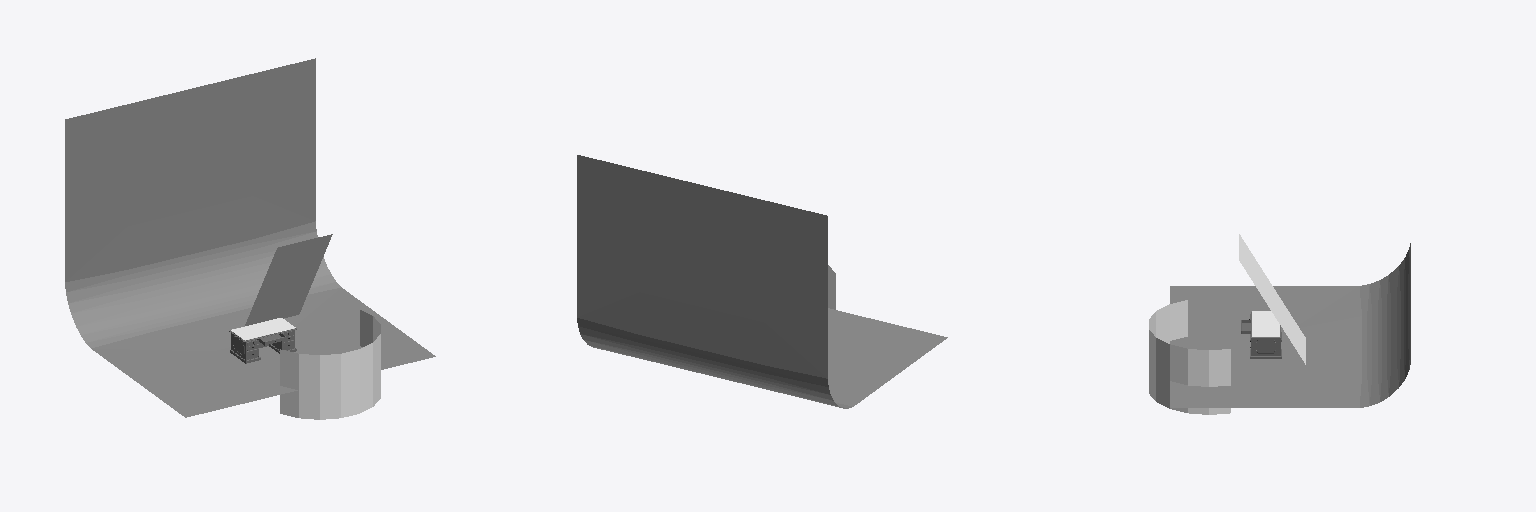
The model's file is desk_obj.obj.
The picture shows the model from 3 angles: view 1: azimuth 30°, elevation 25°; view 2: azimuth 150°, elevation 25°; view 3: azimuth 270°, elevation 25°; orthographic projection.
Visible parts, largest first — view 1: white_background, Cylinder01, Plane01, ChamferBox01, MAIN; view 2: white_background; view 3: white_background, Cylinder01, Plane01, ChamferBox01, MAIN.
Boxes of the visible parts, x1,y1,x2,y2 form: white_background: [65, 58, 435, 417]; Cylinder01: [280, 310, 380, 419]; Plane01: [245, 234, 332, 325]; ChamferBox01: [231, 318, 295, 340]; MAIN: [230, 330, 296, 363]; white_background: [577, 155, 947, 408]; white_background: [1170, 243, 1410, 407]; Cylinder01: [1149, 300, 1230, 414]; Plane01: [1239, 234, 1305, 364]; ChamferBox01: [1252, 311, 1279, 336]; MAIN: [1250, 332, 1281, 358].
Size of the model in its own units: 157860 by 143098 by 143192.